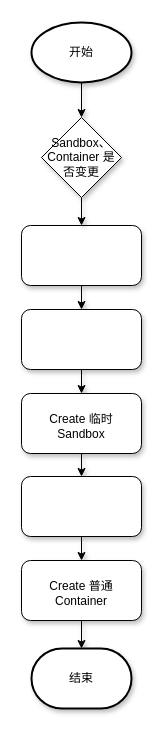
Image size: 165x733. Some labels were removed from this diagram. Here are the shapes that lost their labels. From the top down, the centre of each, then its label:
the point at 82,256: Kill Pod对应的 Sandbox
the point at 82,340: Kill Pod对应的 Container
the point at 82,508: Init Container
